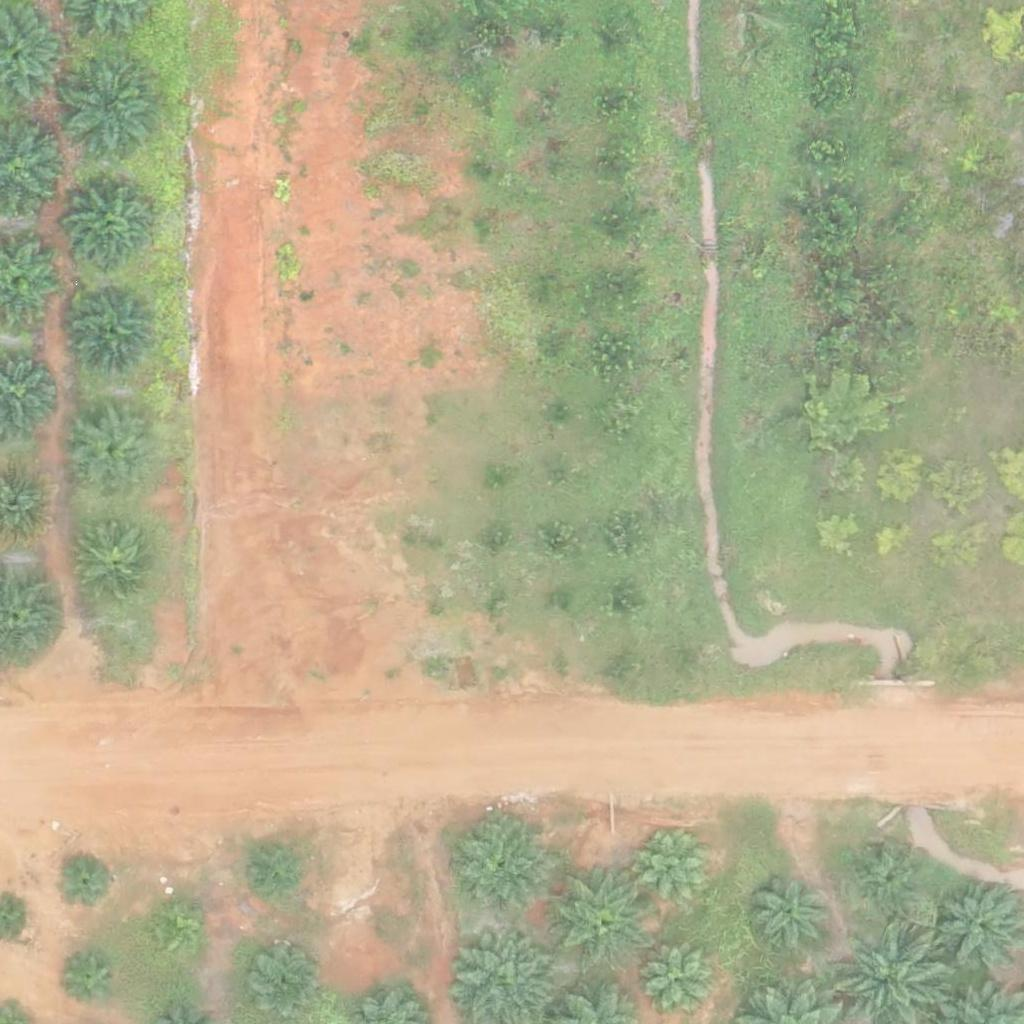Kelapa_Sawit: (453, 816, 553, 917), (551, 867, 651, 968), (59, 55, 159, 155), (75, 521, 163, 609), (748, 872, 835, 961), (636, 825, 723, 913), (69, 187, 156, 275), (70, 284, 157, 372), (69, 410, 156, 498), (641, 942, 716, 1017), (144, 903, 207, 966), (236, 841, 299, 904), (861, 849, 923, 912), (54, 850, 116, 913), (58, 950, 120, 1013)
